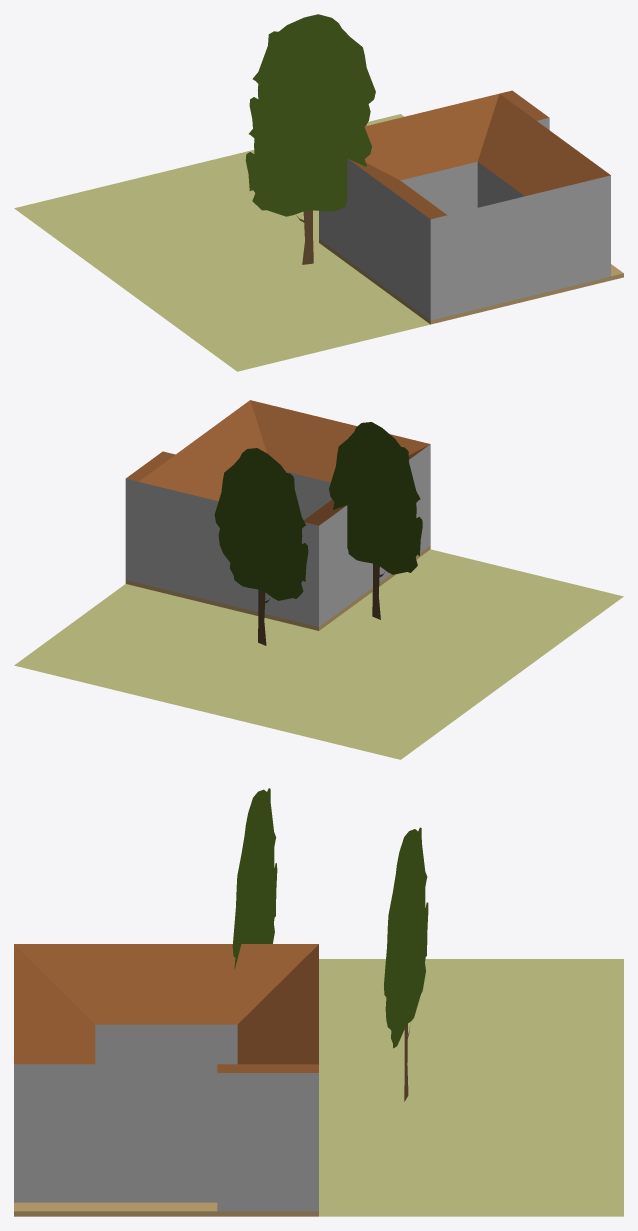
3 renders of one model, top to bottom at view 1: azimuth 30°, elevation 25°; view 2: azimuth 150°, elevation 25°; view 3: azimuth 270°, elevation 25°, orthographic. The views are drawn at different scales.
Visible parts, largest first — view 1: ww2w; view 2: ww2w; view 3: ww2w.
Boxes of the visible parts, x1,y1,x2,y2 form: ww2w: (14,14,623,371); ww2w: (14,400,623,759); ww2w: (14,788,623,1216).
Size of the model in its own units: 30 by 14.71 by 30.
